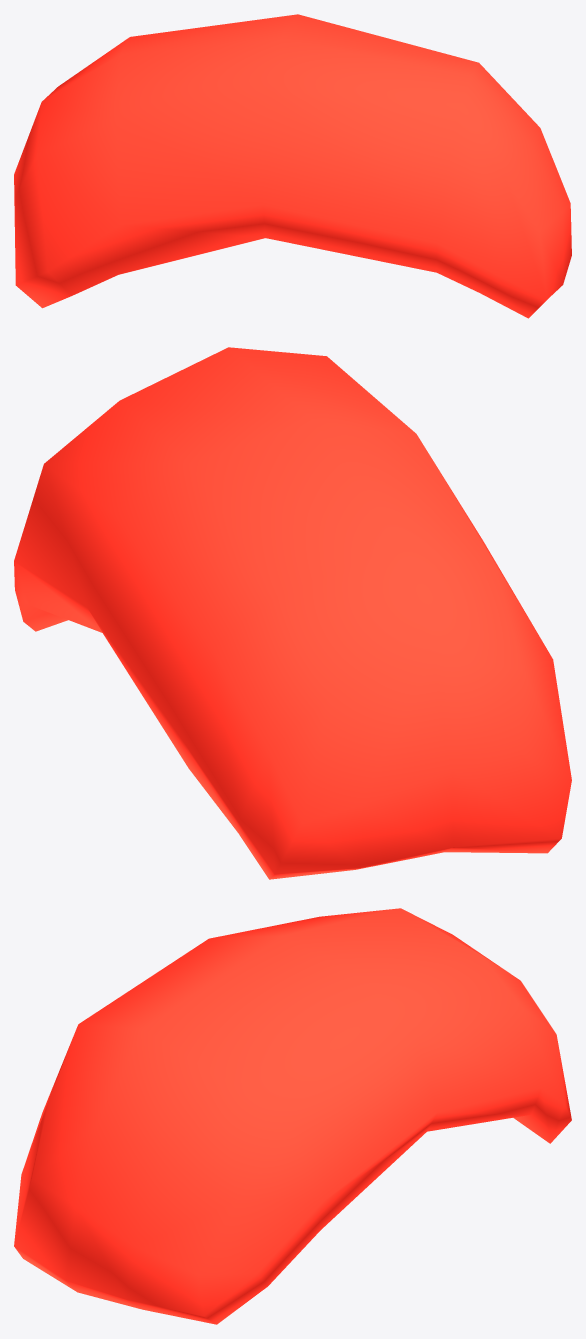
The model's file is Normal_meat.fbx.
The picture shows the model from 3 angles, top to bottom: view 1: azimuth 30°, elevation 25°; view 2: azimuth 150°, elevation 25°; view 3: azimuth 270°, elevation 25°; orthographic projection. The views are drawn at different scales.
Visible parts, largest first — view 1: Cube.010; view 2: Cube.010; view 3: Cube.010.
Boxes of the visible parts, x1,y1,x2,y2 form: Cube.010: (14,14,571,318); Cube.010: (14,347,571,879); Cube.010: (14,908,571,1324).
Bounding box in the file's own units: 20.99 × 10.33 × 19.24.
